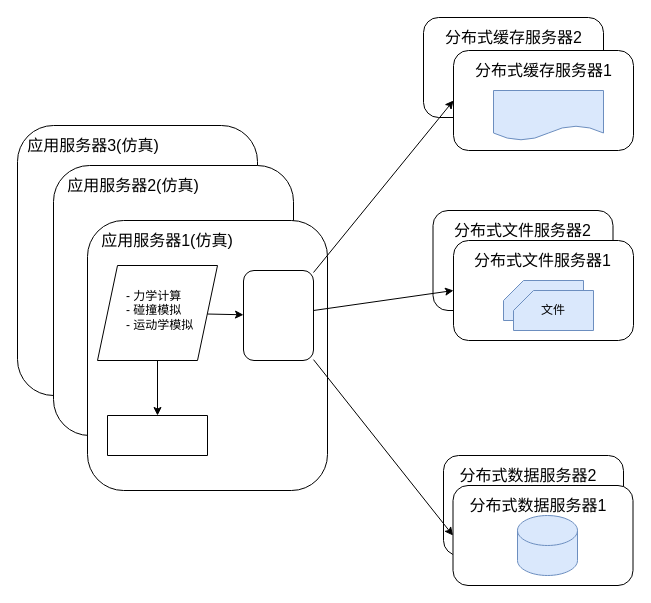
The diagram is 651 pixels wide and 603 high, and some of its shapes have lost their labels. Here are the shapes that lost their labels. From the top down, the box of each, then its label:
(492, 90, 604, 140): 远程分布式缓存
(242, 270, 314, 360): 统一数据访问模块
(106, 414, 208, 456): 本地缓存
(516, 514, 578, 576): 数据库
